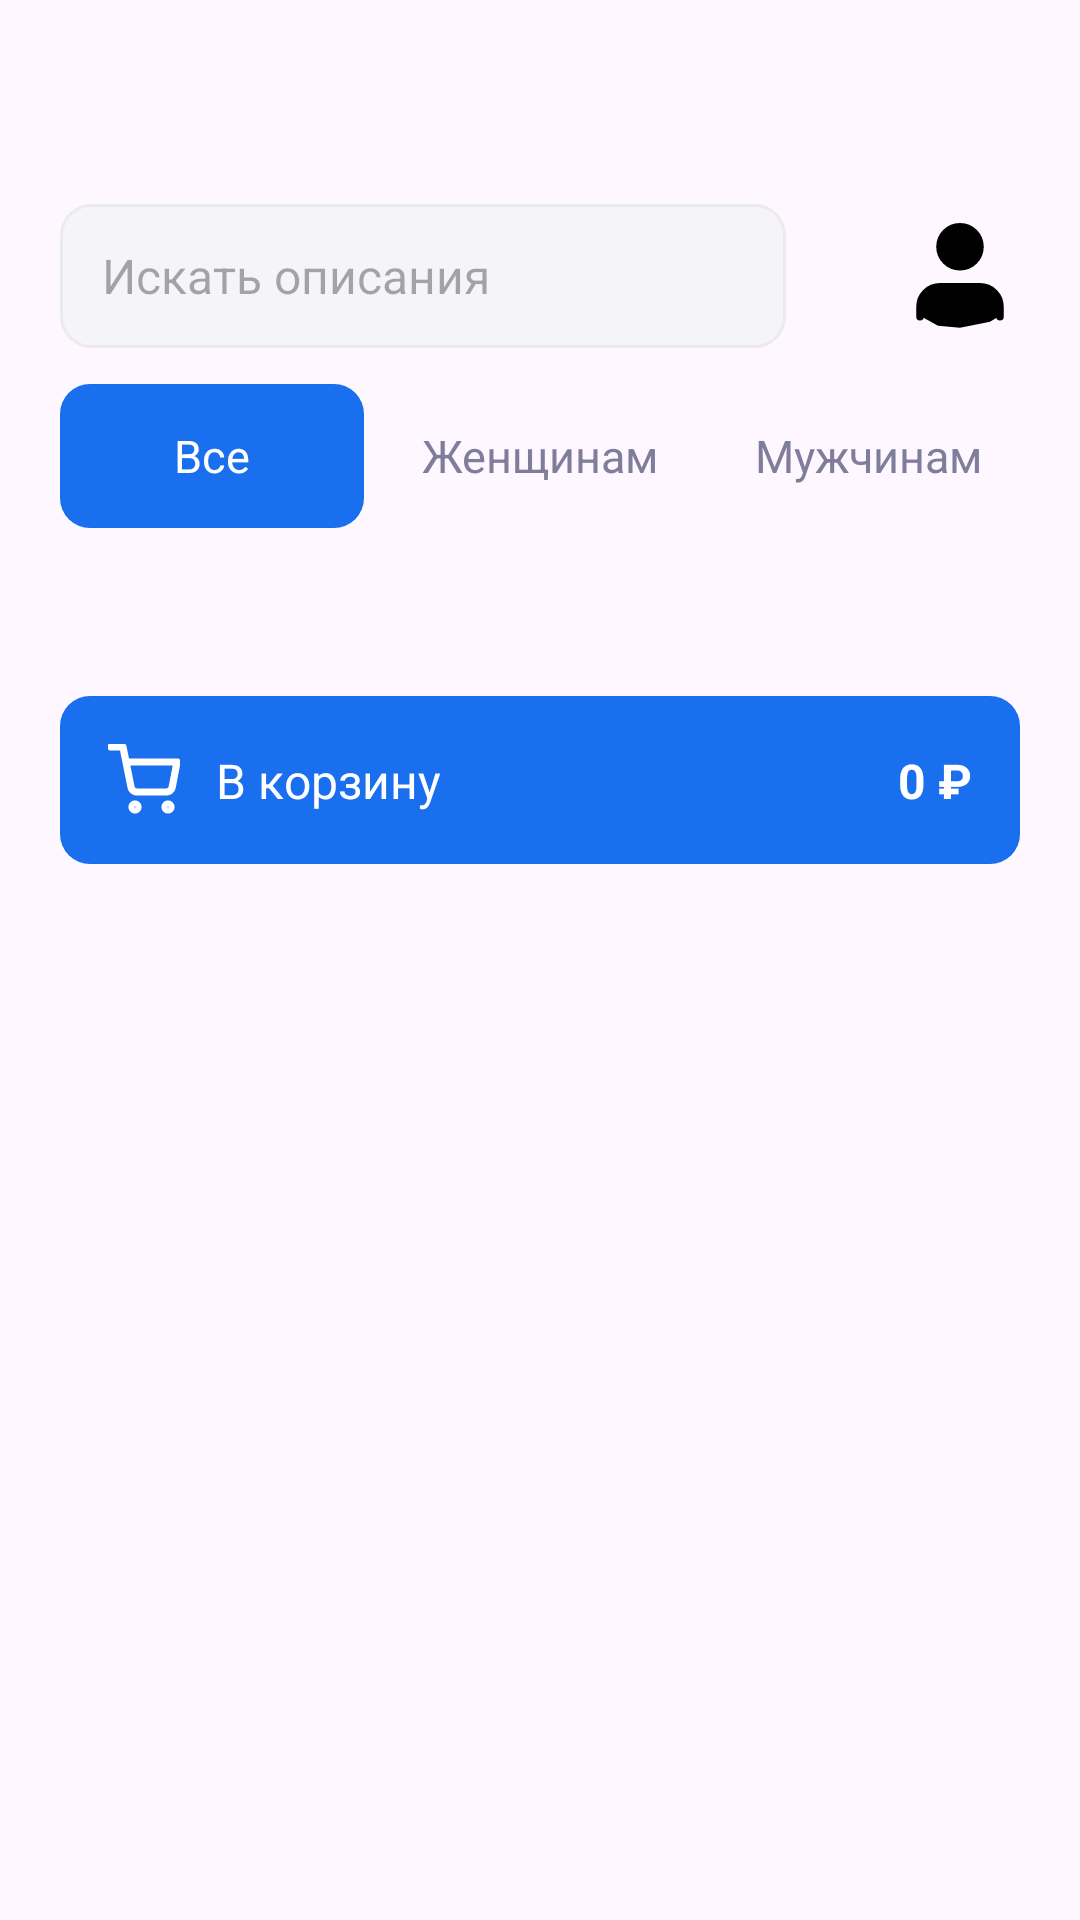

Point at icon controls on the screen. Image size 1080 x 1920, points as (x=x, y=y).
cart: (x=144, y=779)
user: (x=960, y=275)
